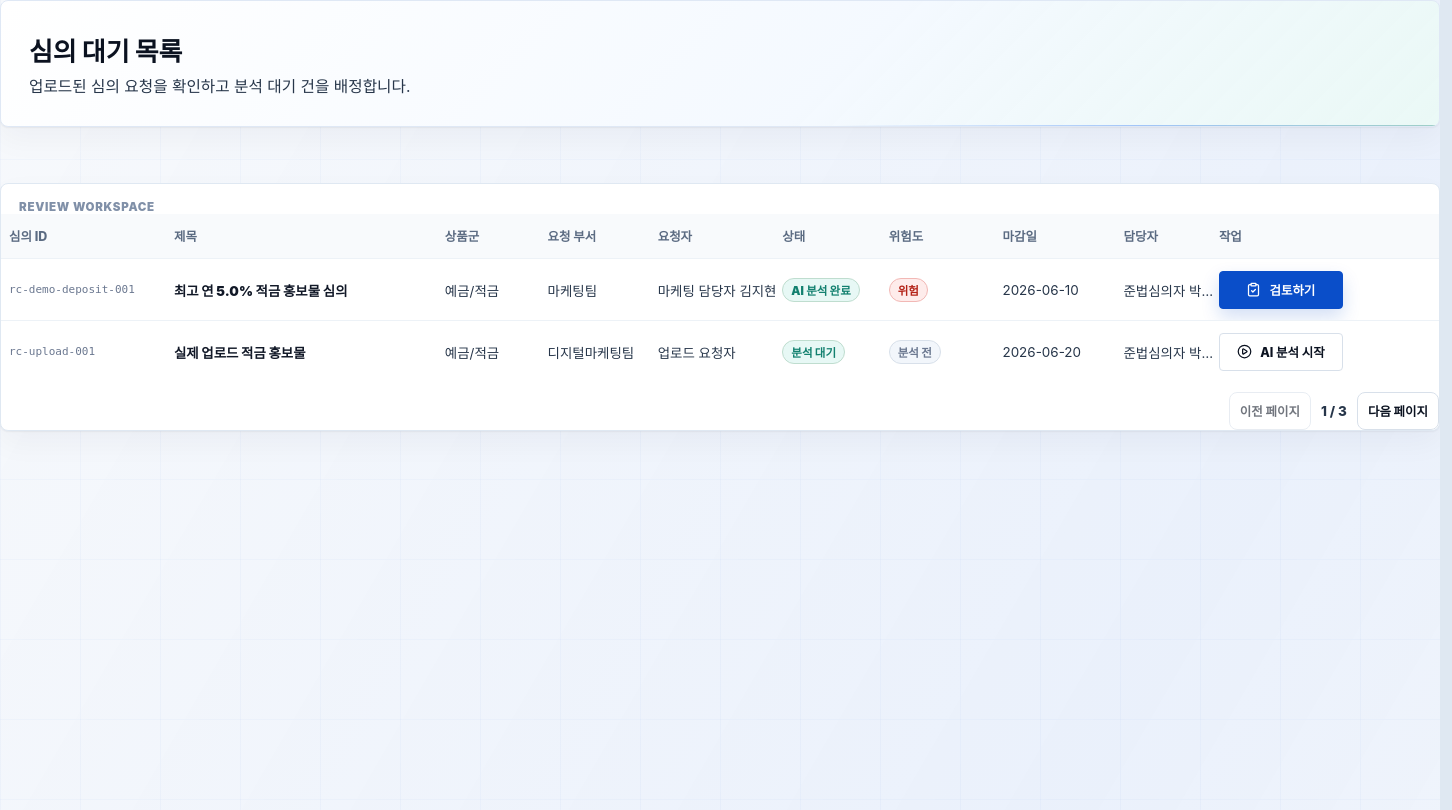
Test: ReviewQueue › uses backend pagination when the reviewer moves through queue pages
This screenshot has width=1452, height=810.
Check: the text "1 / 3" is shown, box [1321,403,1347,419]
Step 1. Click the button "다음 페이지" → (1398, 411), box [1357,392,1439,430]
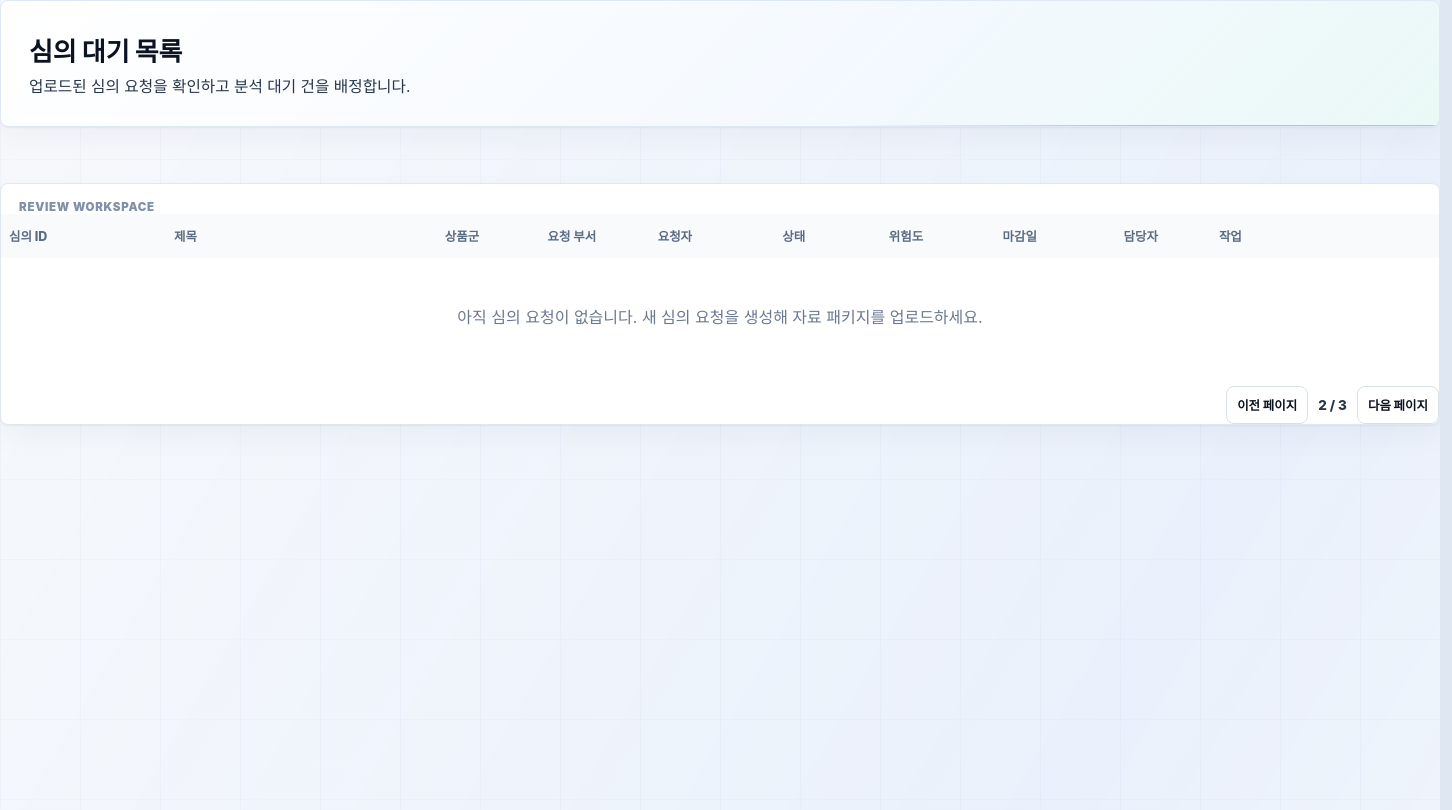
Check: the text "2 / 3" is shown, box [1318,397,1347,413]
